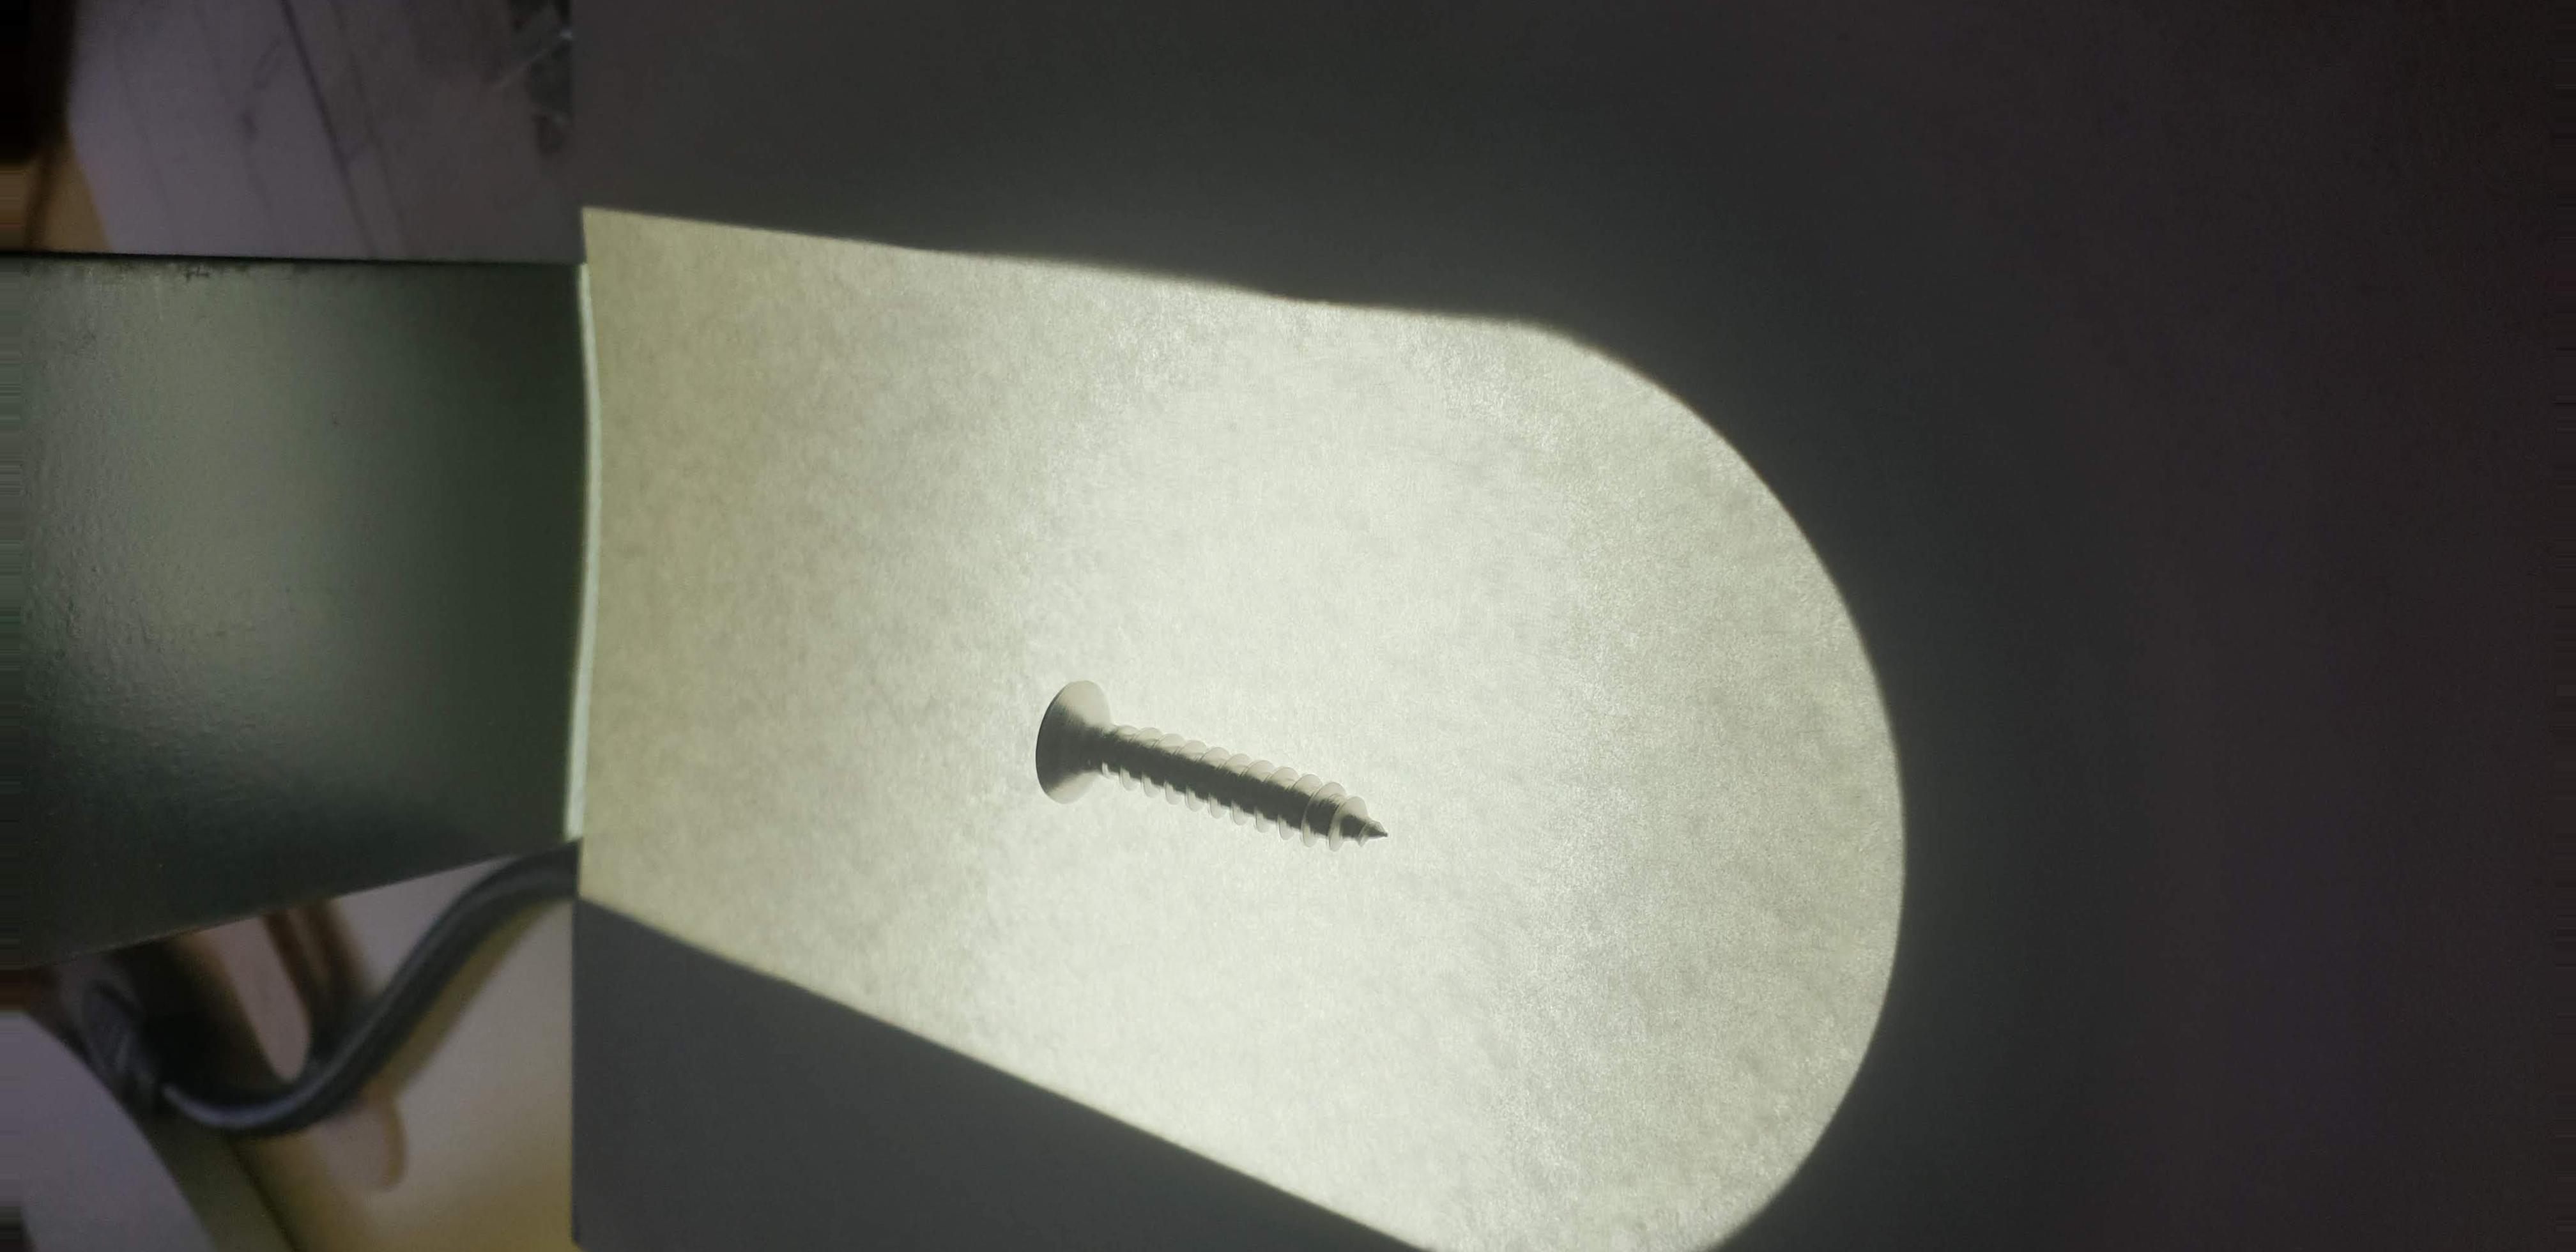S004: (982, 628, 1470, 905)
